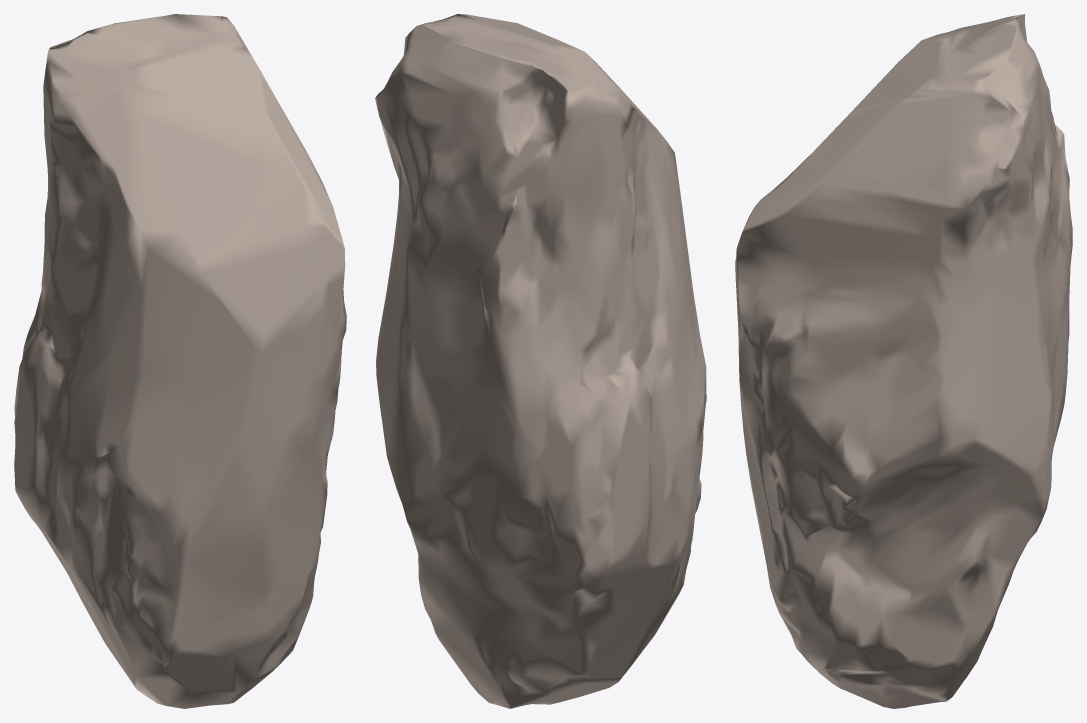
The model's file is rock-1.glb.
The picture shows the model from 3 angles, left to right: view 1: azimuth 30°, elevation 25°; view 2: azimuth 150°, elevation 25°; view 3: azimuth 270°, elevation 25°; orthographic projection. The views are drawn at different scales.
Parts seen in each view (by area): view 1: rock-1; view 2: rock-1; view 3: rock-1.
Part boxes in pixels (left/top/right/bottom): rock-1: left=14, top=14, right=346, bottom=708; rock-1: left=375, top=14, right=706, bottom=708; rock-1: left=735, top=14, right=1072, bottom=708.
Bounding box in the file's own units: 0.2283 × 0.55 × 0.2555.
